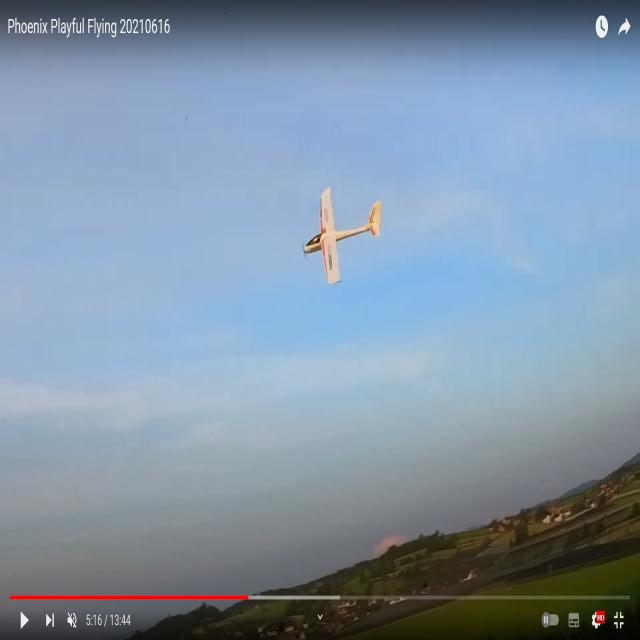iha: (332, 221, 351, 253)
